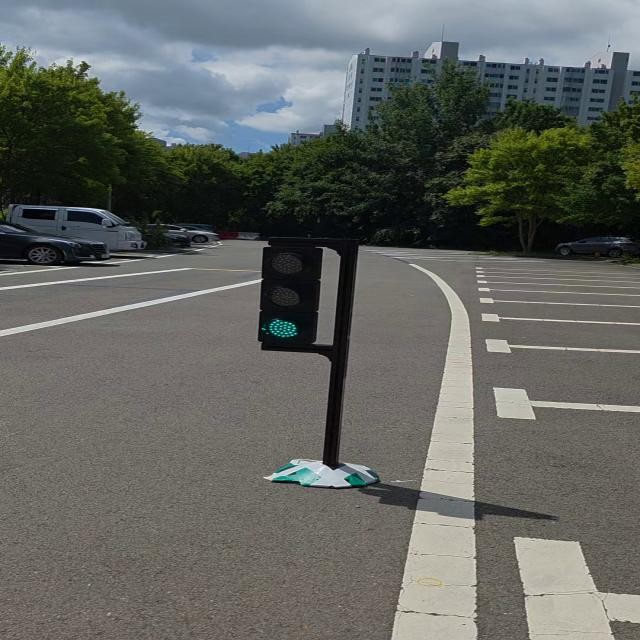green: (256, 236, 320, 351)
